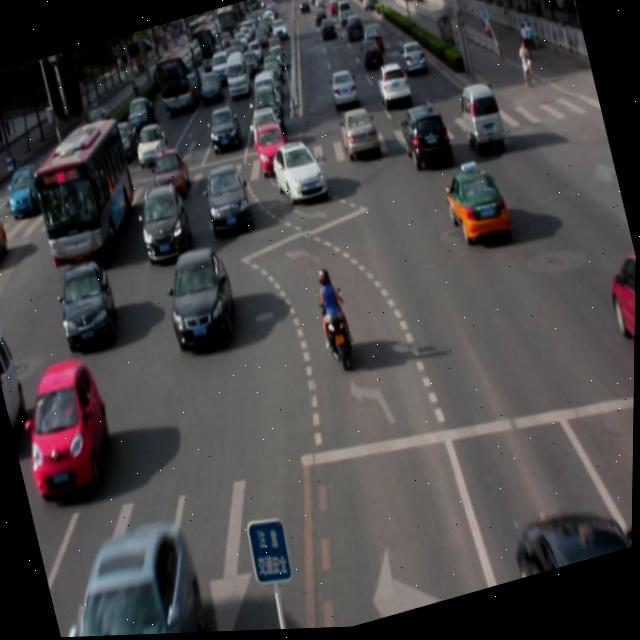car: (46, 518, 217, 638), (10, 353, 122, 505), (156, 242, 244, 357), (509, 498, 627, 583), (51, 258, 123, 355), (438, 163, 511, 255), (131, 180, 195, 267), (600, 252, 637, 392), (266, 139, 331, 214), (394, 101, 455, 179), (197, 163, 256, 240), (335, 106, 381, 168)
truck: (453, 82, 506, 161)
van: (26, 116, 149, 276)
